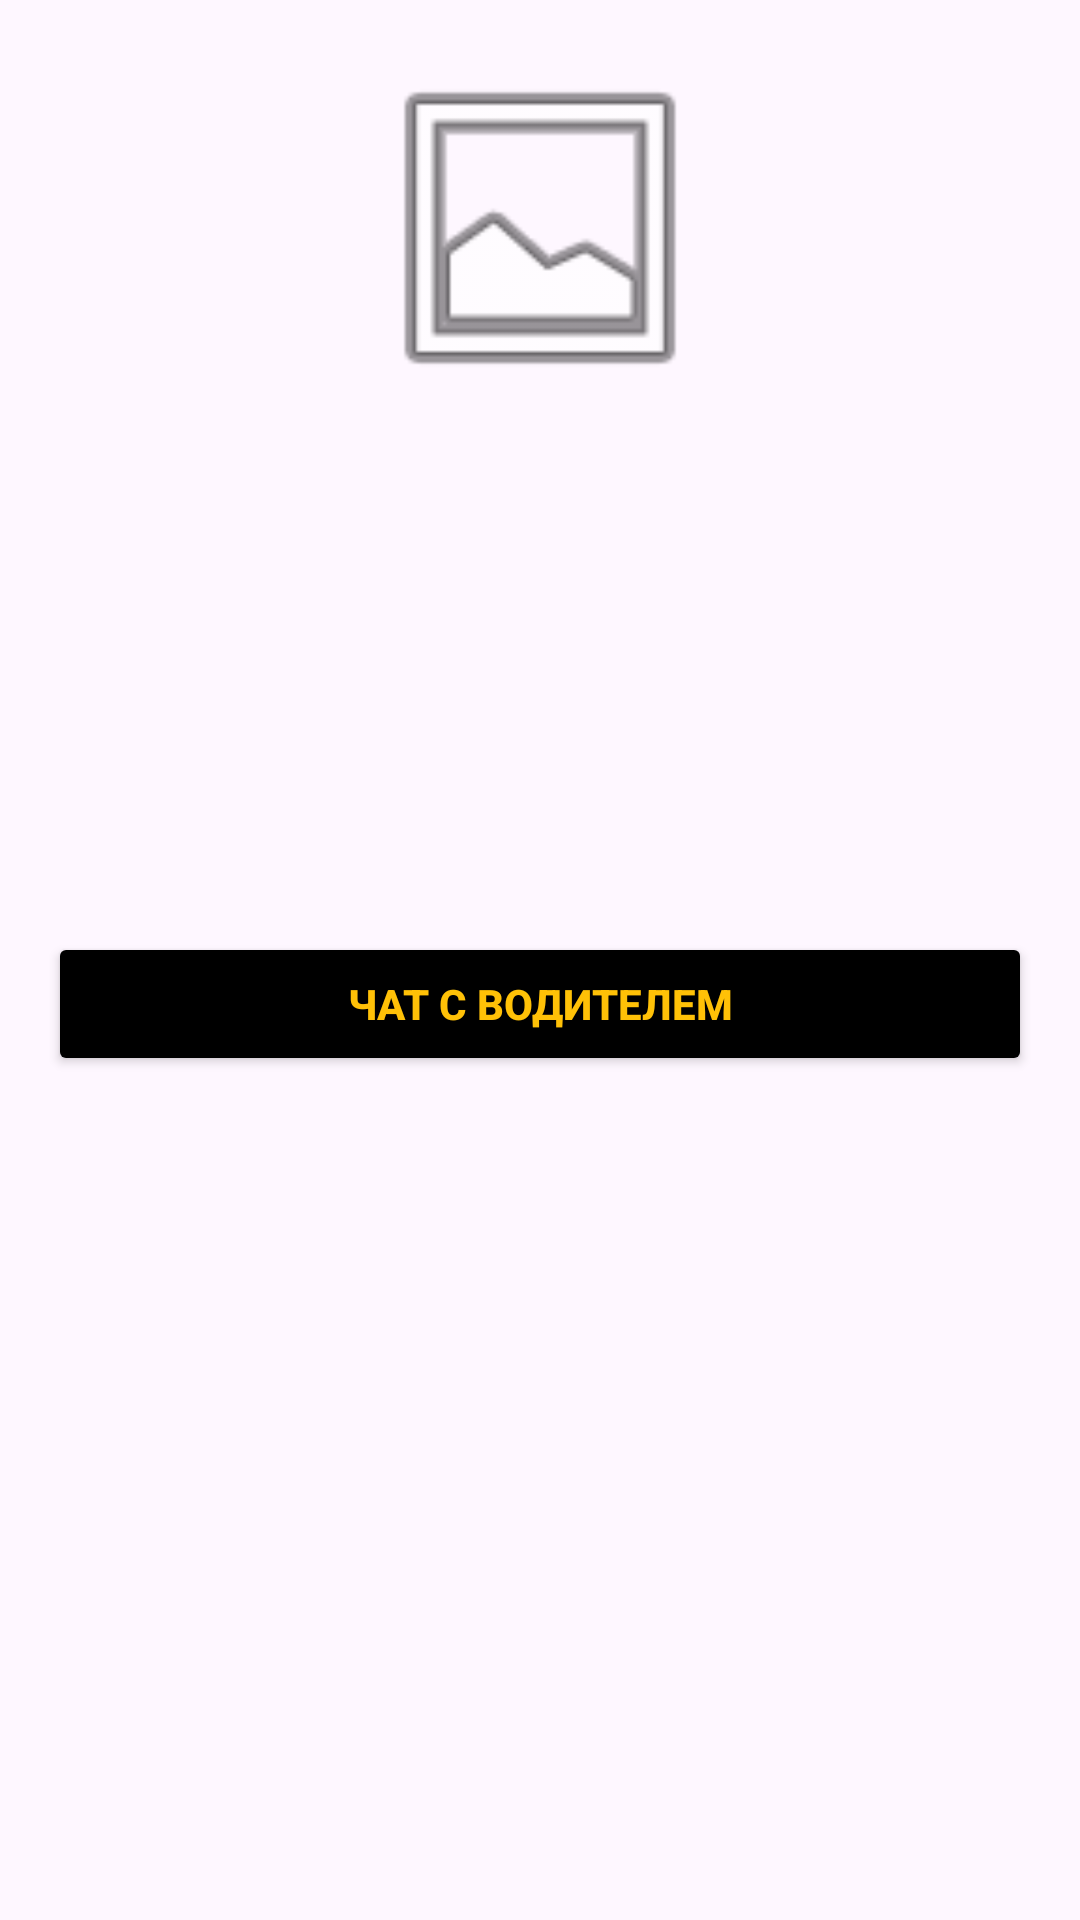

Where to tap for icons on this 1080w x 1920h app screen, as point (x, y):
gallery: point (540, 228)
